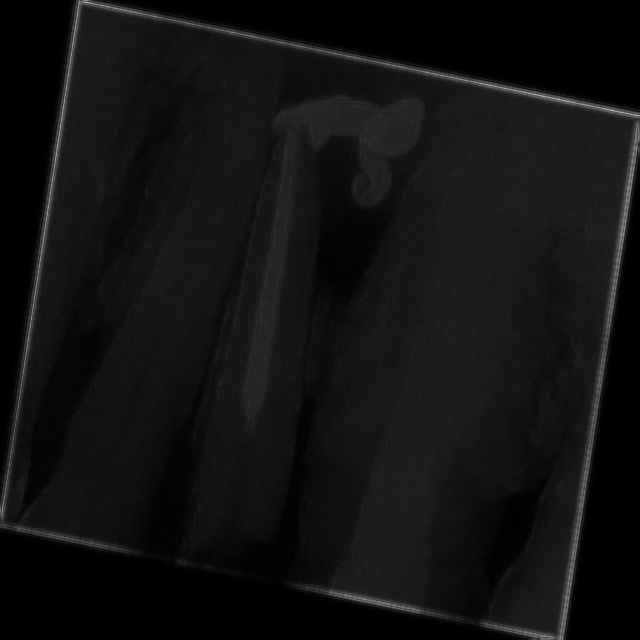Class 1- complete endodontic treatment: (148, 41, 438, 568)
